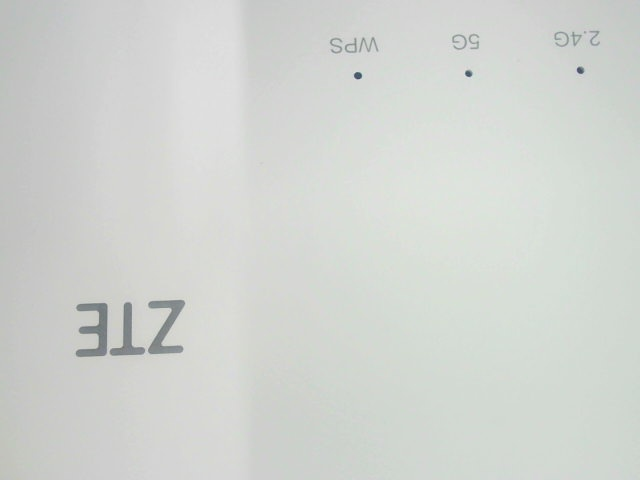AN_ZTE: (72, 296, 188, 361)
